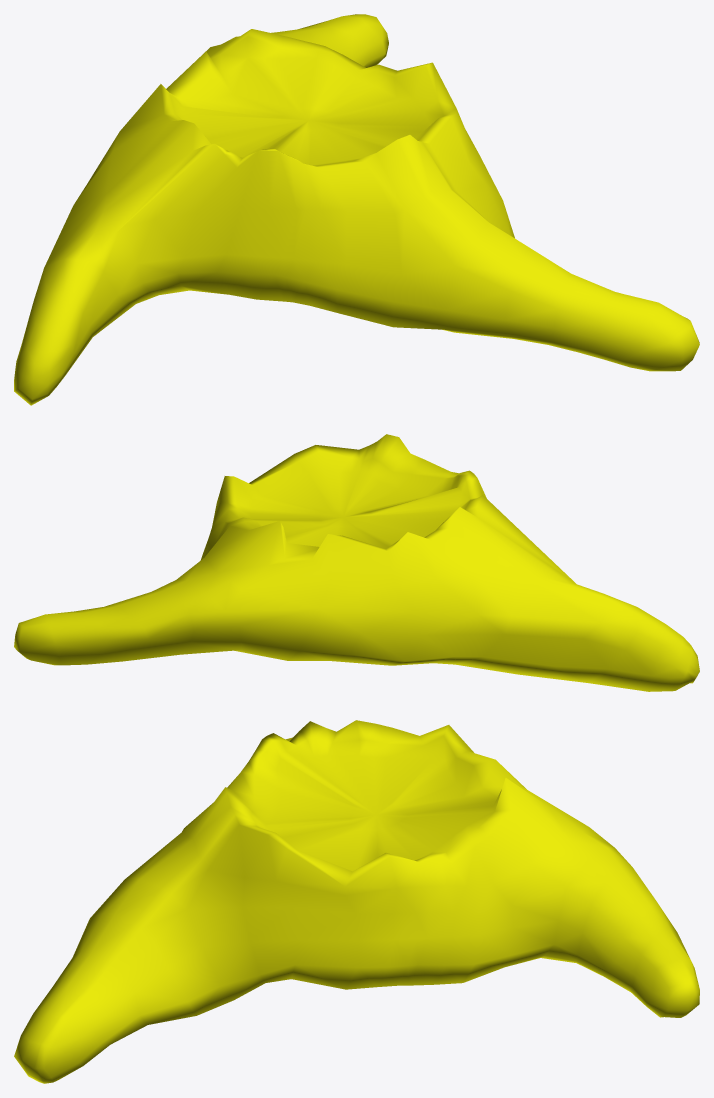
File: StumpLow.fbx
The picture shows the model from 3 angles, top to bottom: view 1: azimuth 30°, elevation 25°; view 2: azimuth 150°, elevation 25°; view 3: azimuth 270°, elevation 25°; orthographic projection. The views are drawn at different scales.
Visible parts, largest first — view 1: StumpLow; view 2: StumpLow; view 3: StumpLow.
Boxes of the visible parts, x1,y1,x2,y2 form: StumpLow: (14, 14, 699, 405); StumpLow: (14, 434, 699, 691); StumpLow: (14, 720, 699, 1083).
Bounding box in the file's own units: 0.9239 × 0.3297 × 0.9593.
